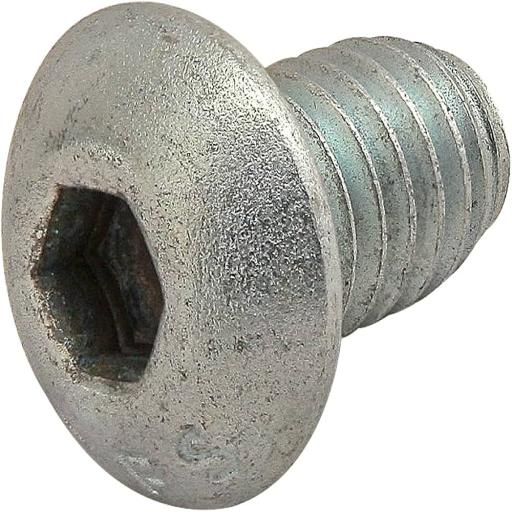Hex-Allen: (0, 0, 343, 509)
